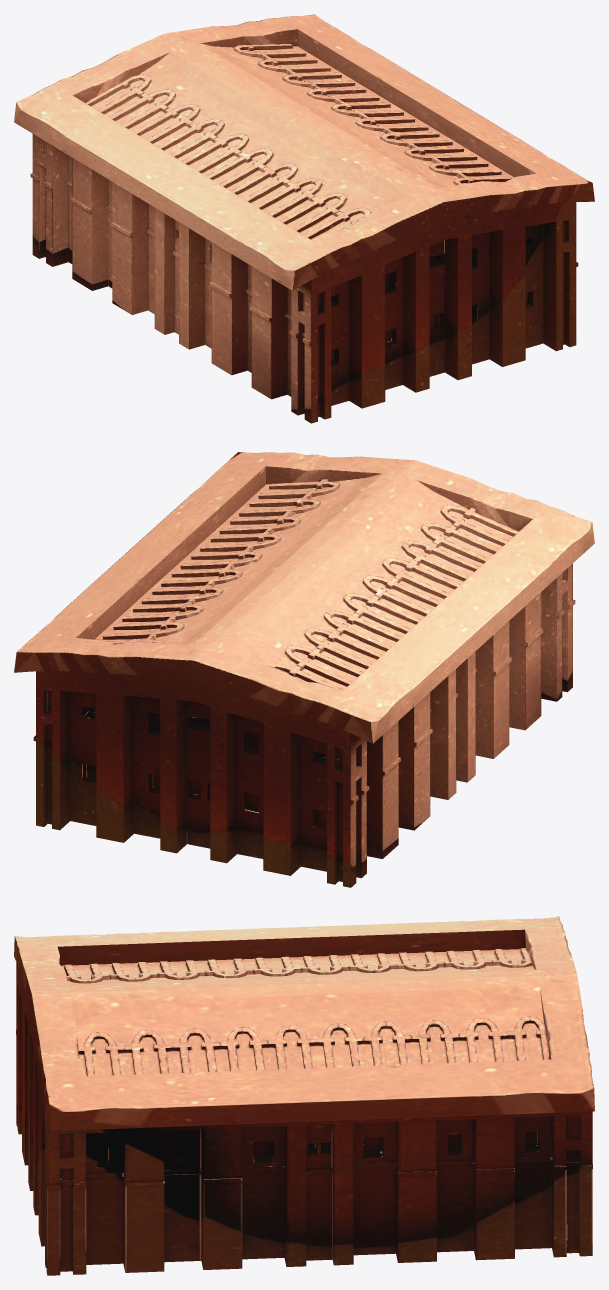
3 views of the same model, one above another, from view 1: azimuth 30°, elevation 25°; view 2: azimuth 150°, elevation 25°; view 3: azimuth 270°, elevation 25° (orthographic). The views are drawn at different scales.
Visible parts, largest first — view 1: 1; view 2: 1; view 3: 1.
Boxes of the visible parts, box(x1,y1,x2,y2) form: 1: box(14, 14, 594, 423); 1: box(14, 452, 594, 887); 1: box(14, 916, 594, 1275).
Size of the model in its own units: 0.3255 by 0.1607 by 0.411.
Materials: 1 (1 with a texture image).
